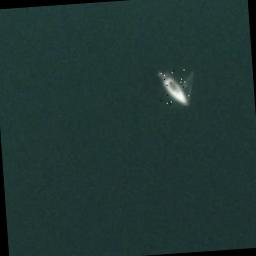boat: (158, 68, 190, 106)
